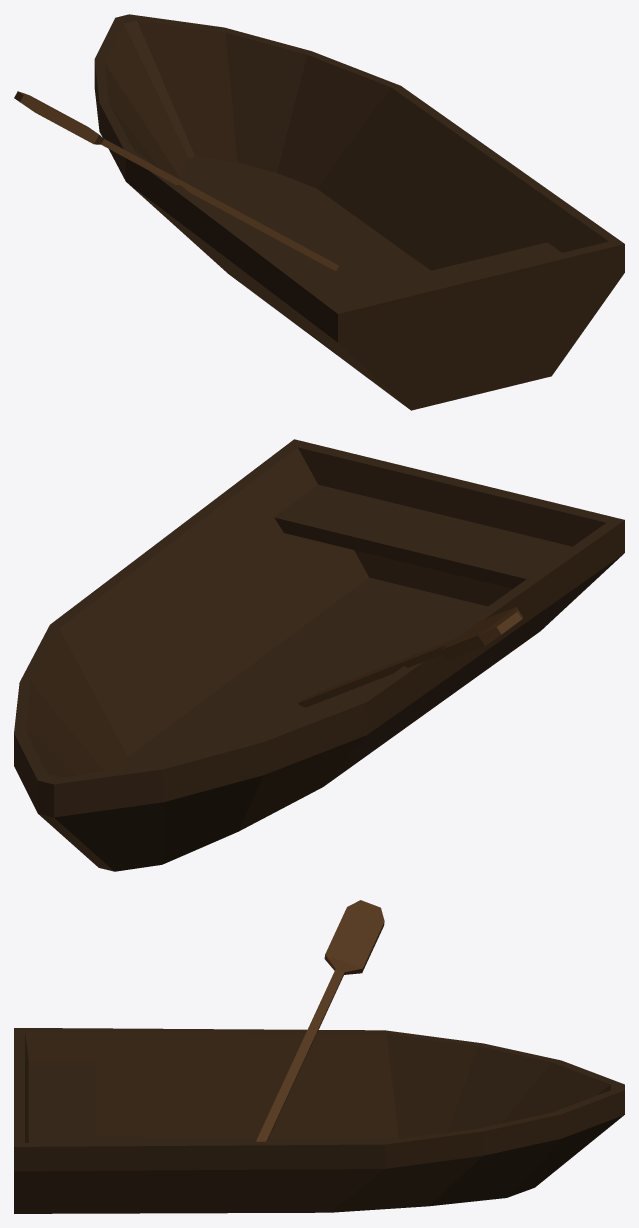
The model's file is boat.fbx.
3 renders of one model, top to bottom at view 1: azimuth 30°, elevation 25°; view 2: azimuth 150°, elevation 25°; view 3: azimuth 270°, elevation 25°, orthographic. The views are drawn at different scales.
Parts seen in each view (by area): view 1: Boat, Paddle; view 2: Boat, Paddle; view 3: Boat, Paddle.
Part boxes in pixels (x1,y1,x2,y2): Boat: [94, 14, 624, 410]; Paddle: [14, 91, 338, 270]; Boat: [14, 439, 624, 871]; Paddle: [298, 607, 522, 707]; Boat: [14, 1028, 624, 1213]; Paddle: [256, 900, 384, 1141].
Size of the model in its own units: 500 by 251 by 774.
